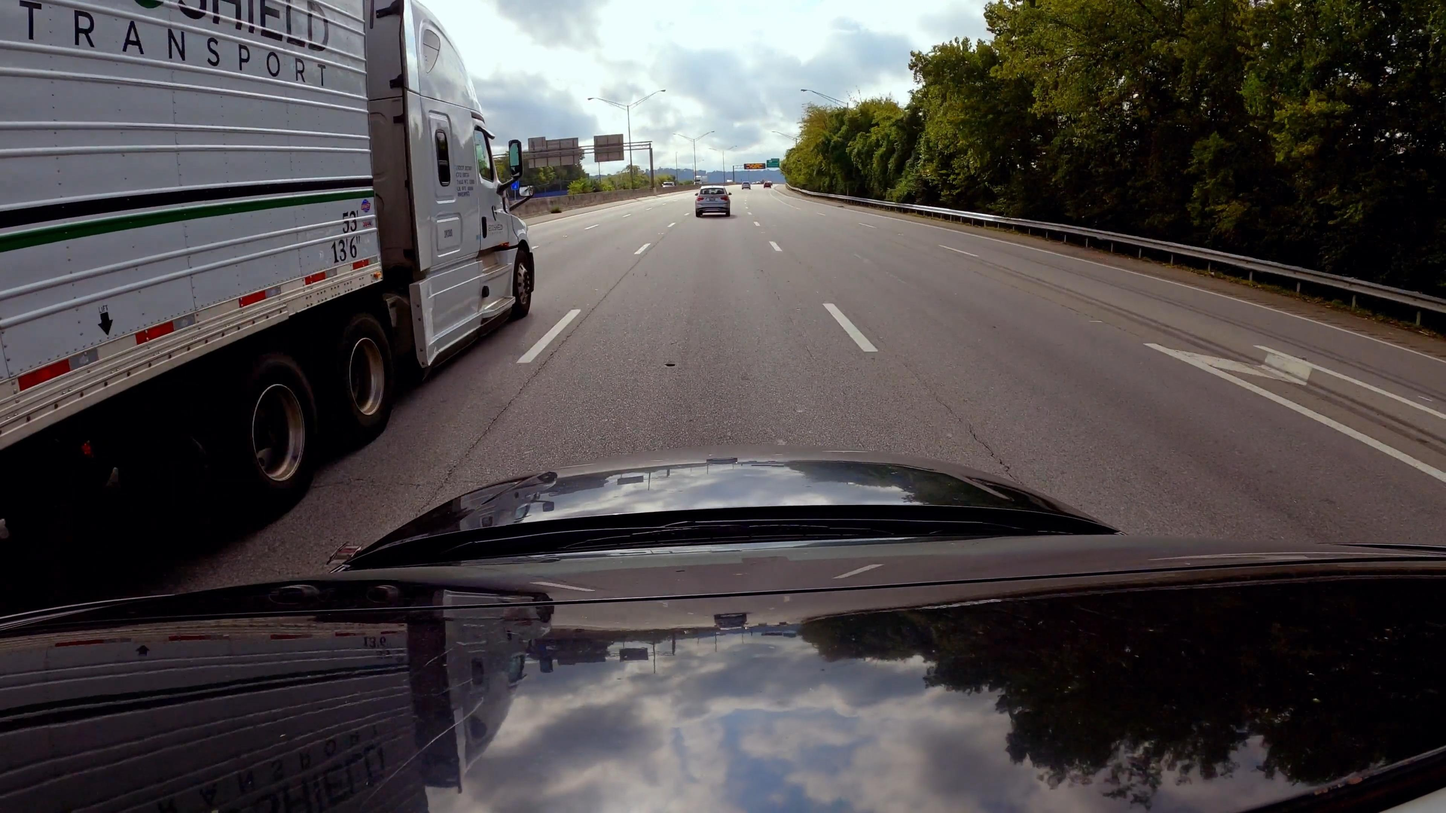dry: (525, 184, 1446, 545)
